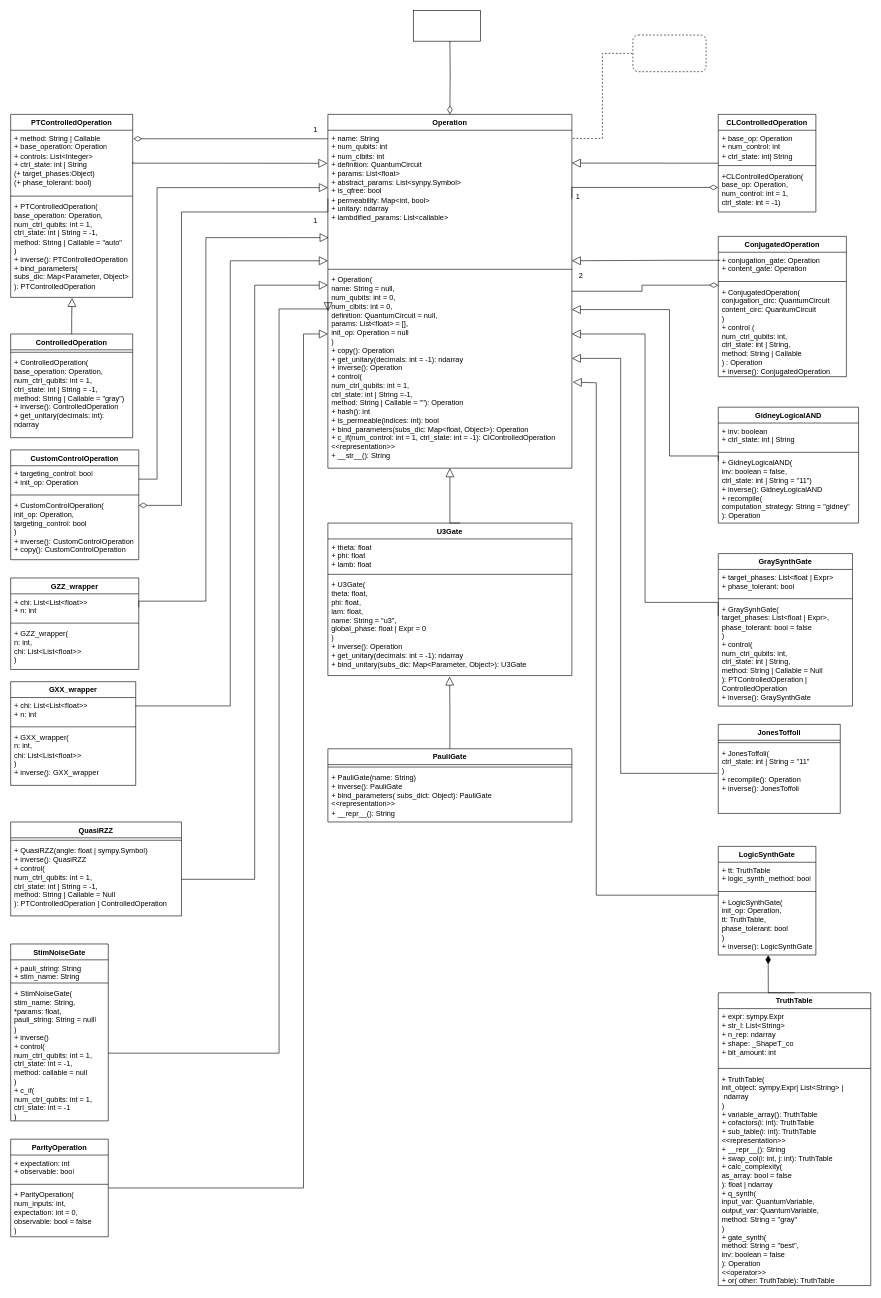
Image size: 881x1298. Some labels were removed from this diagram. Each missing label, with the centre of its shape:
<<Note>> unitary and lambdified_parmas are dynamically set: the point at 669,53
QuantumCircuit: the point at 446,25
